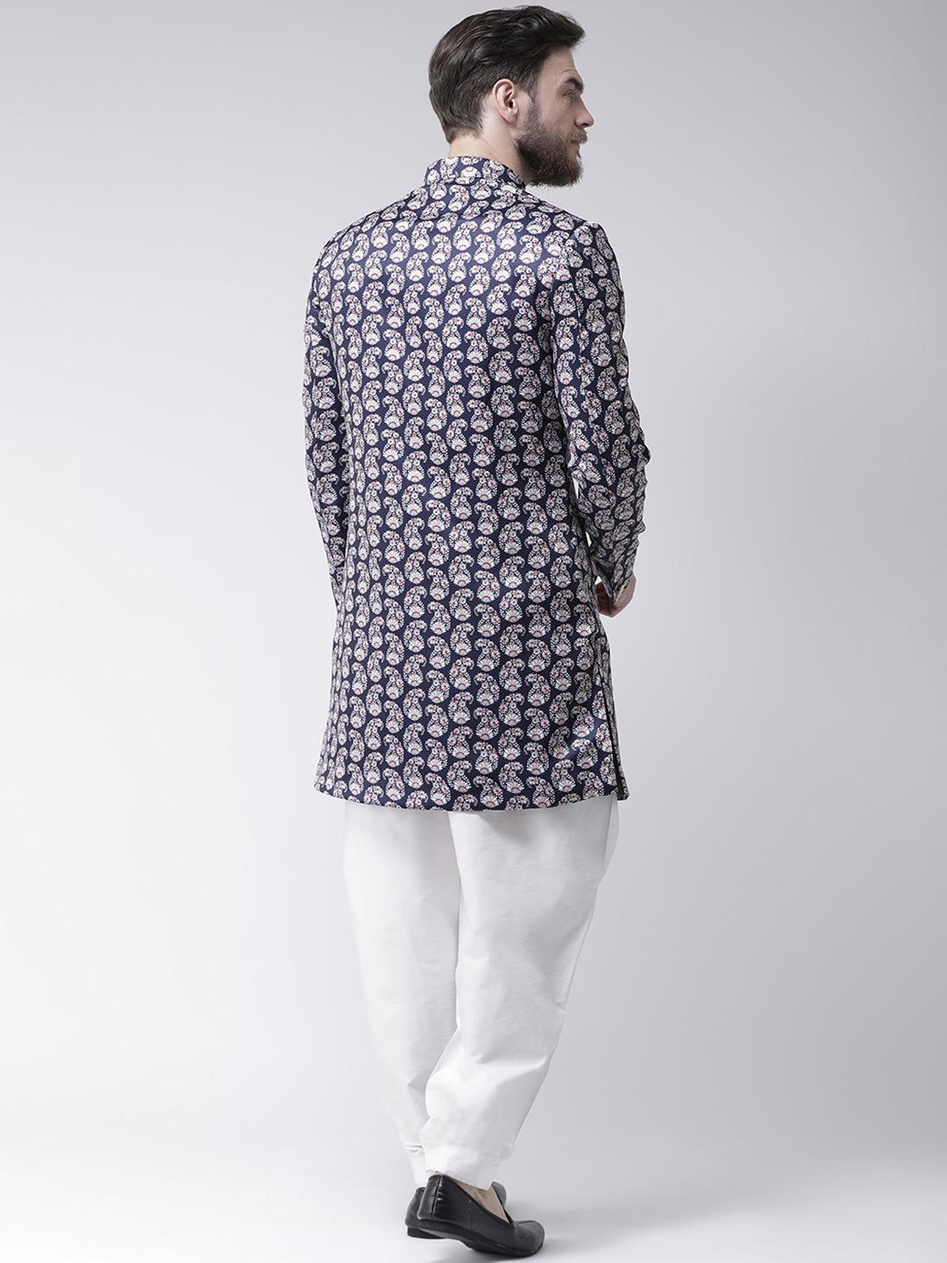Design Sherwani: (298, 160, 652, 804)
